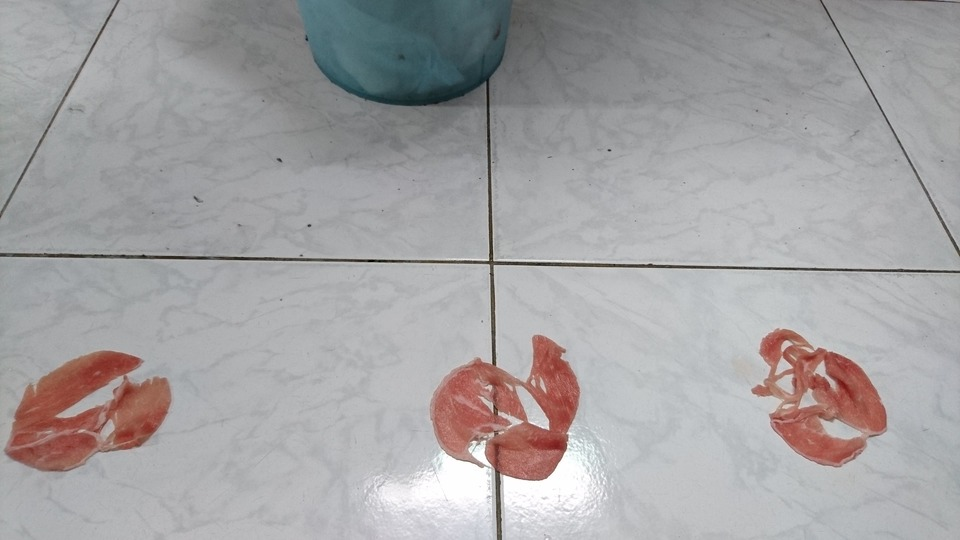restructured meat: (426, 330, 589, 486), (745, 323, 908, 479), (27, 349, 193, 473)
